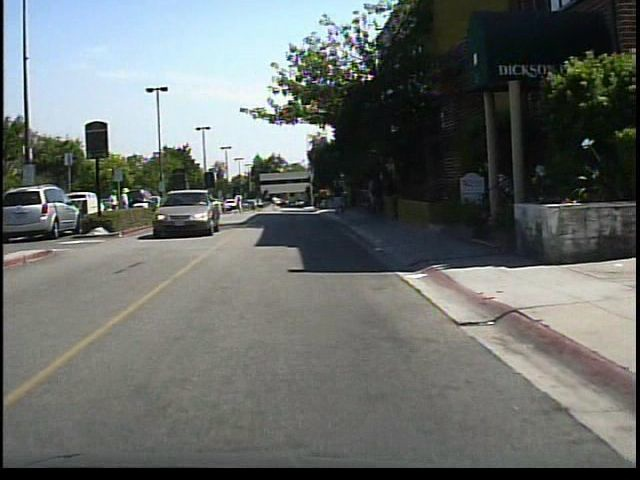person: (331, 175, 350, 218), (163, 183, 181, 224), (119, 185, 136, 228), (107, 187, 122, 228), (234, 189, 246, 217)
